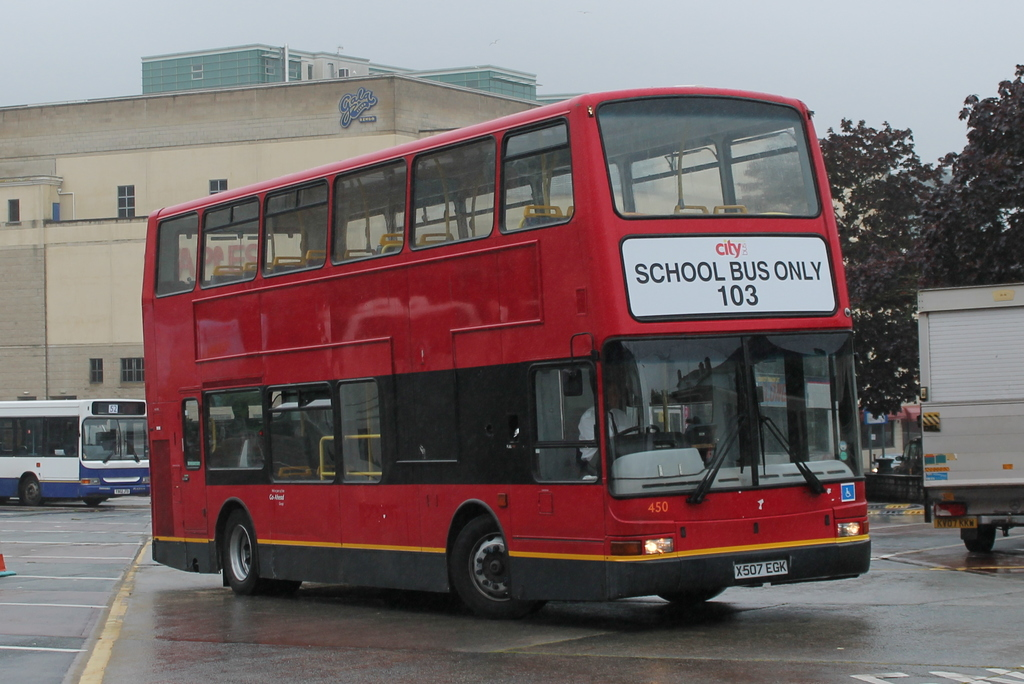Bus: (151, 81, 876, 616), (0, 395, 151, 509)
